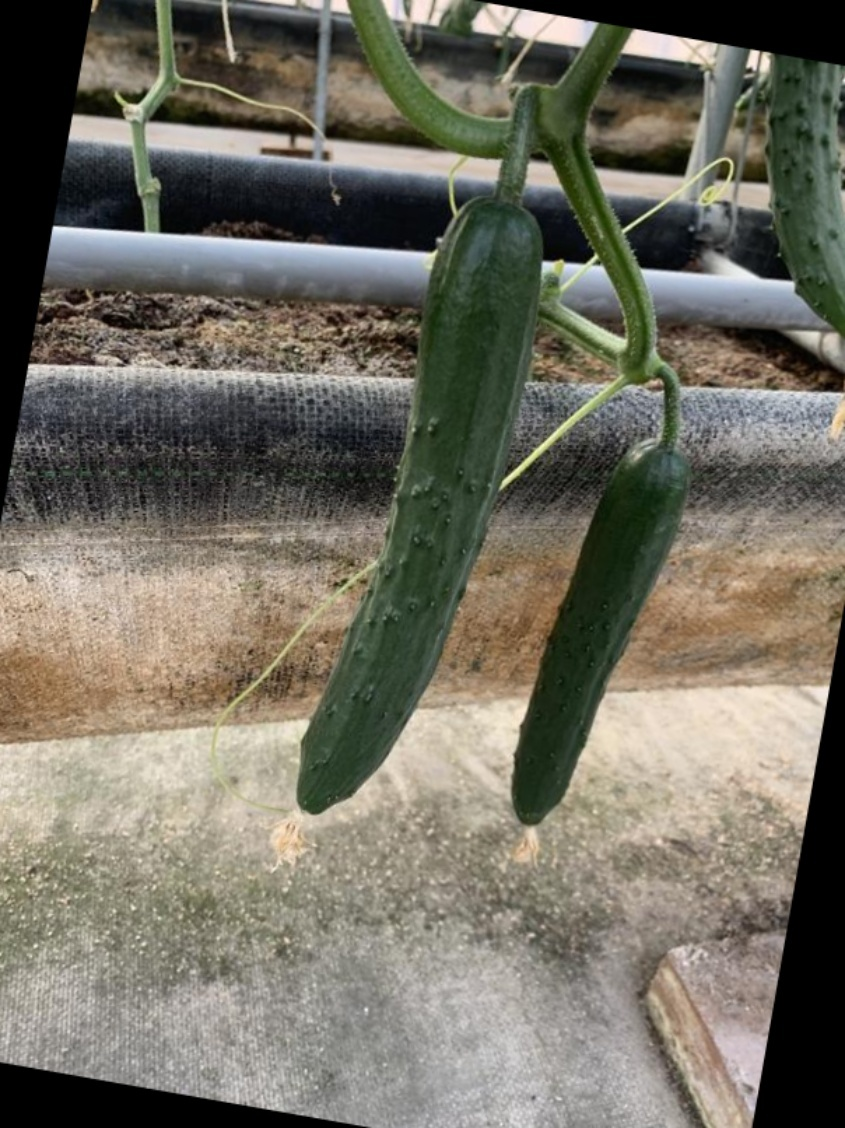mature: (496, 438, 695, 843)
